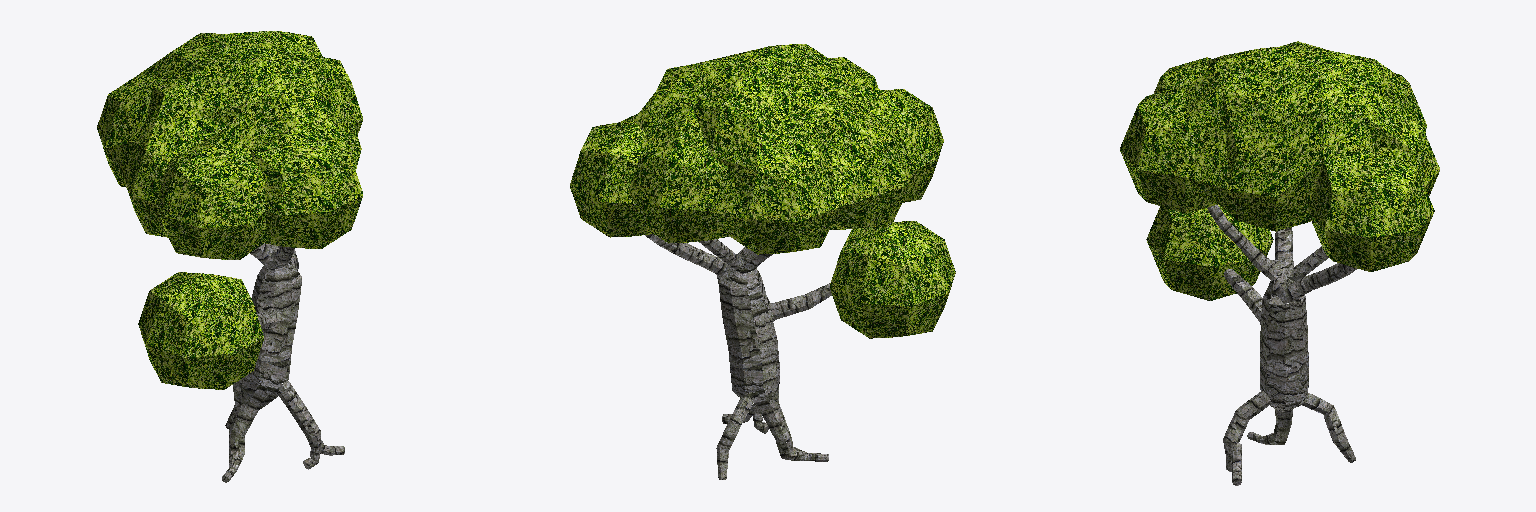
3 views of the same model, side by side, from view 1: azimuth 30°, elevation 25°; view 2: azimuth 150°, elevation 25°; view 3: azimuth 270°, elevation 25° (orthographic).
Parts seen in each view (by area): view 1: Mesh_0; view 2: Mesh_0; view 3: Mesh_0.
Part boxes in pixels (x1,y1,x2,y2): Mesh_0: (97, 31, 362, 482); Mesh_0: (570, 44, 955, 479); Mesh_0: (1120, 41, 1439, 485).
Size of the model in its own units: 5.91 by 7.98 by 5.66.
1 materials, 1 textured.